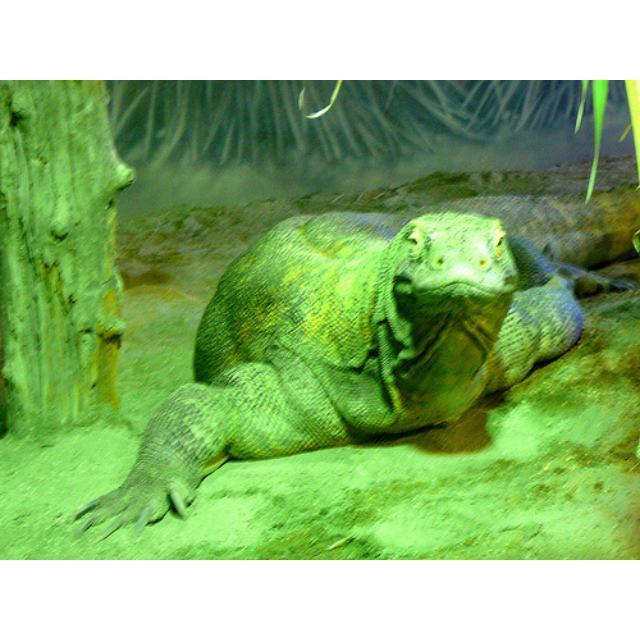KomodoDragon: (57, 182, 636, 546)
